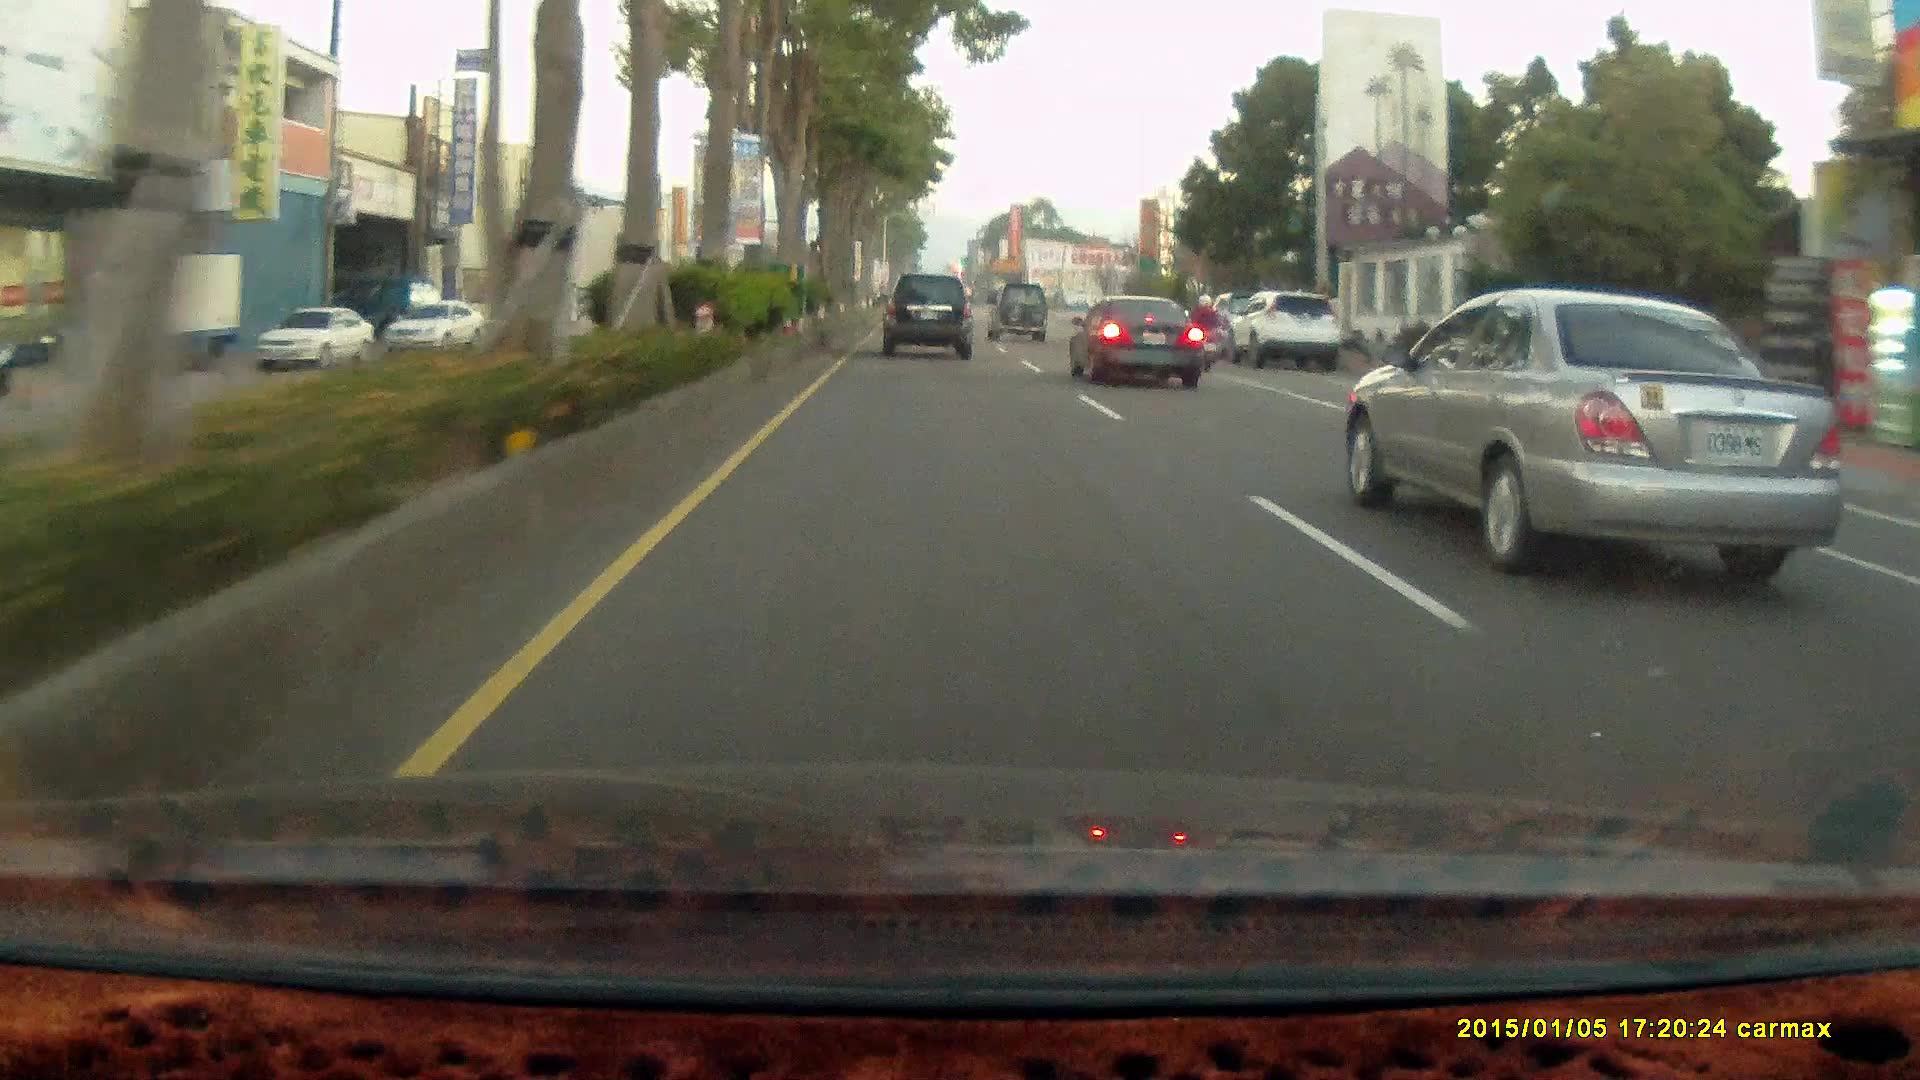rider: (1183, 292, 1220, 371)
vehicle: (1341, 288, 1845, 592), (50, 248, 247, 380), (52, 253, 249, 381), (1069, 293, 1211, 394), (1064, 293, 1204, 388), (1224, 290, 1342, 371), (1237, 292, 1344, 374), (879, 274, 976, 365), (880, 271, 973, 358), (257, 303, 375, 369), (259, 310, 376, 372), (382, 299, 486, 357), (987, 285, 1052, 348), (986, 282, 1048, 341)
